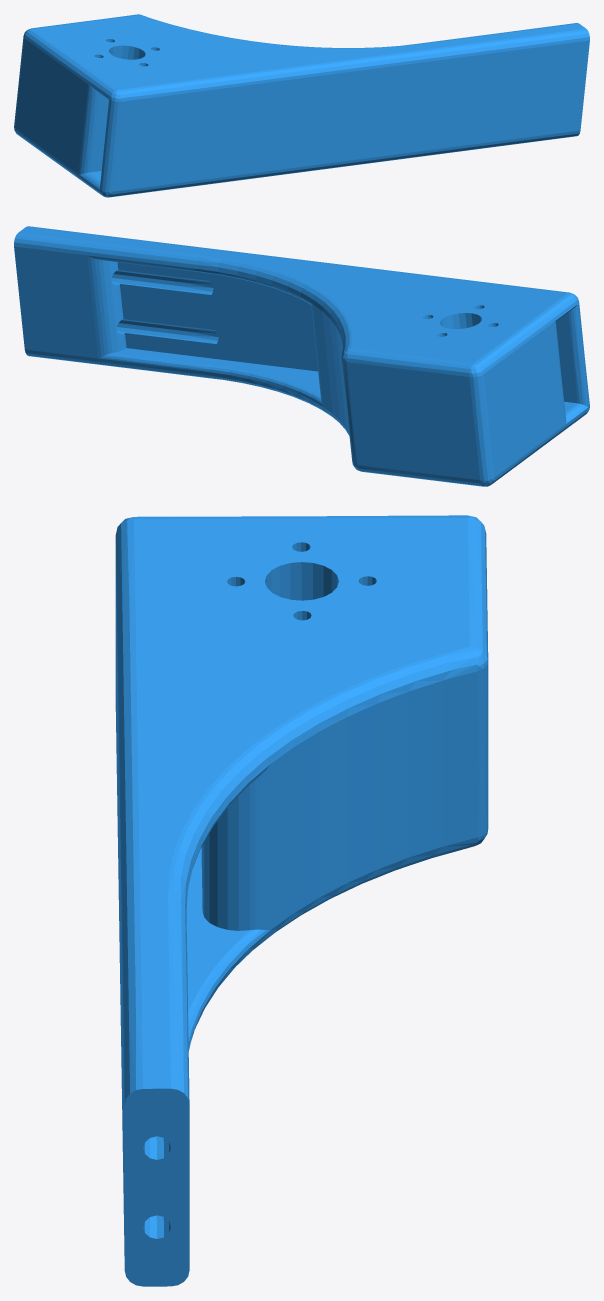
File: UMIRobot_UMIRobot_link_4_vis_6.dae
3 renders of one model, top to bottom at view 1: azimuth 30°, elevation 25°; view 2: azimuth 150°, elevation 25°; view 3: azimuth 270°, elevation 25°, orthographic. The views are drawn at different scales.
Parts seen in each view (by area): view 1: node; view 2: node; view 3: node.
Part boxes in pixels (bbox=[...]): node: bbox=[14, 14, 589, 197]; node: bbox=[14, 226, 589, 486]; node: bbox=[115, 515, 488, 1286].
Bounding box in the file's own units: 0.1221 × 0.038 × 0.0402.
